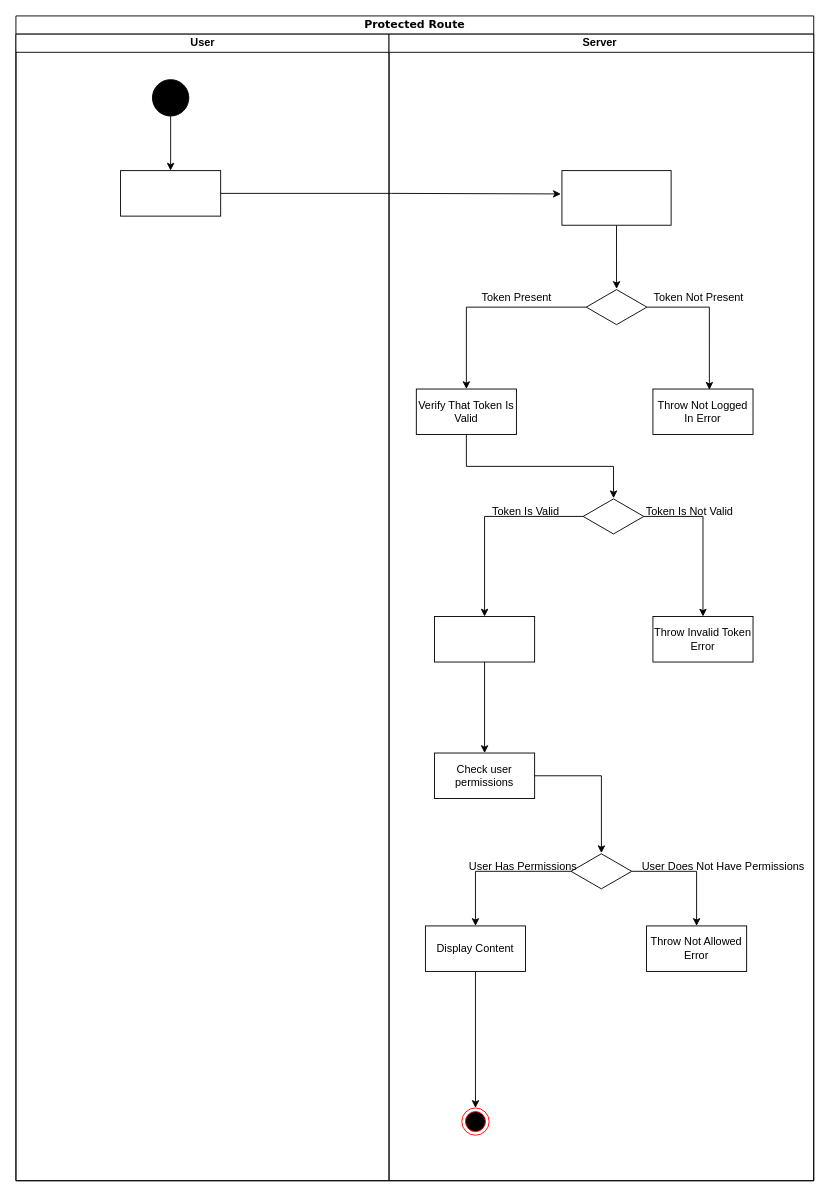
The diagram is 830 pixels wide and 1197 high, and some of its shapes have lost their labels. The box of each missing label's shape, as (x1, y1, x2, y2) in pixels:
Extract payload from token: (434, 616, 535, 662)
Extract Token From Header: (561, 170, 671, 225)
Send A Request: (120, 170, 221, 216)
